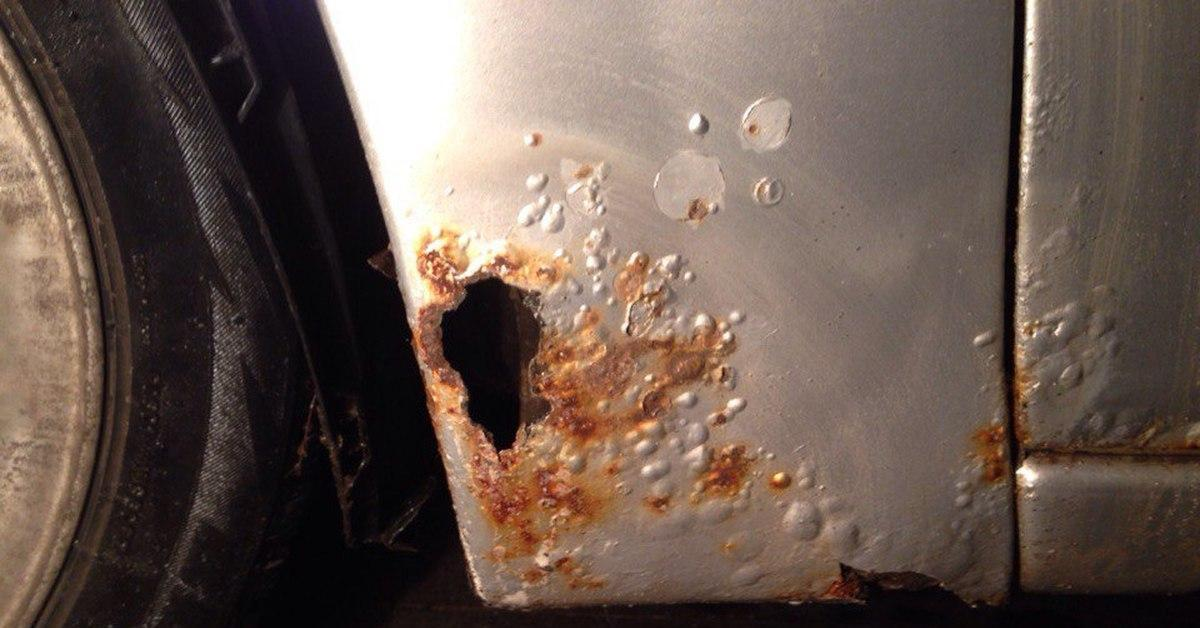corrosion: (389, 177, 825, 596), (954, 339, 1061, 490)
